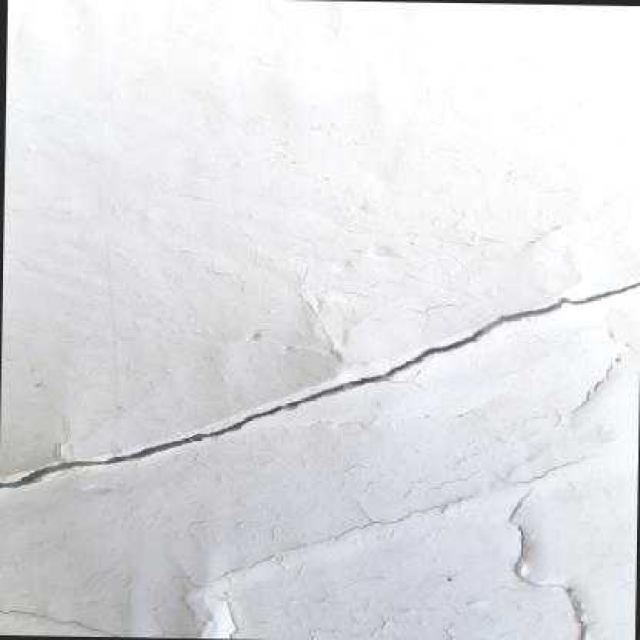D00: (0, 280, 640, 489)
